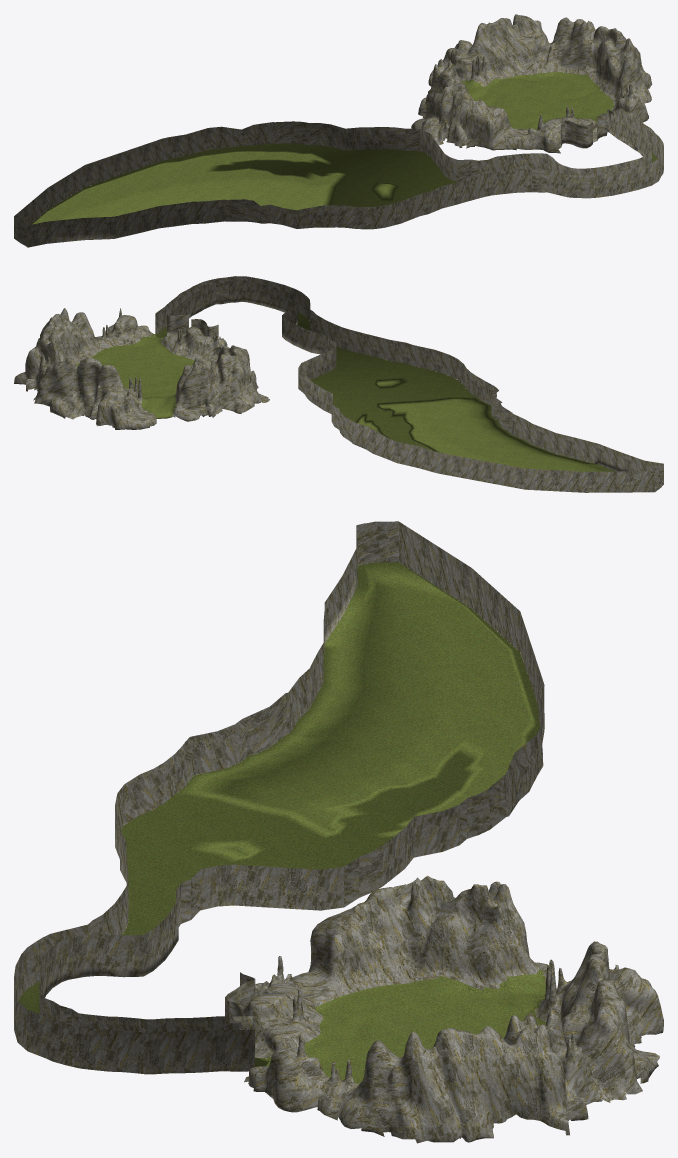
File: city-1.comp.glb
The picture shows the model from 3 angles, top to bottom: view 1: azimuth 30°, elevation 25°; view 2: azimuth 150°, elevation 25°; view 3: azimuth 270°, elevation 25°; orthographic projection. The views are drawn at different scales.
Parts seen in each view (by area): view 1: city-1-group; view 2: city-1-group; view 3: city-1-group.
Boxes of the visible parts, x1,y1,x2,y2 form: city-1-group: [14, 14, 663, 247]; city-1-group: [14, 276, 663, 492]; city-1-group: [14, 521, 663, 1143].
Size of the model in its own units: 368 by 29.41 by 176.
Materials: 3 (3 with a texture image).
